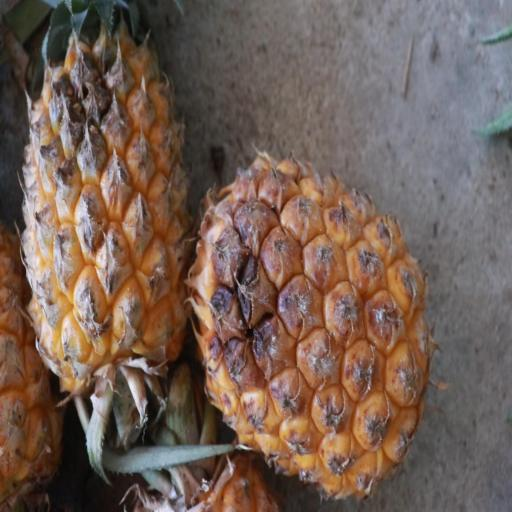Pineapple - v8 v1: (187, 146, 435, 500), (14, 0, 192, 402)
